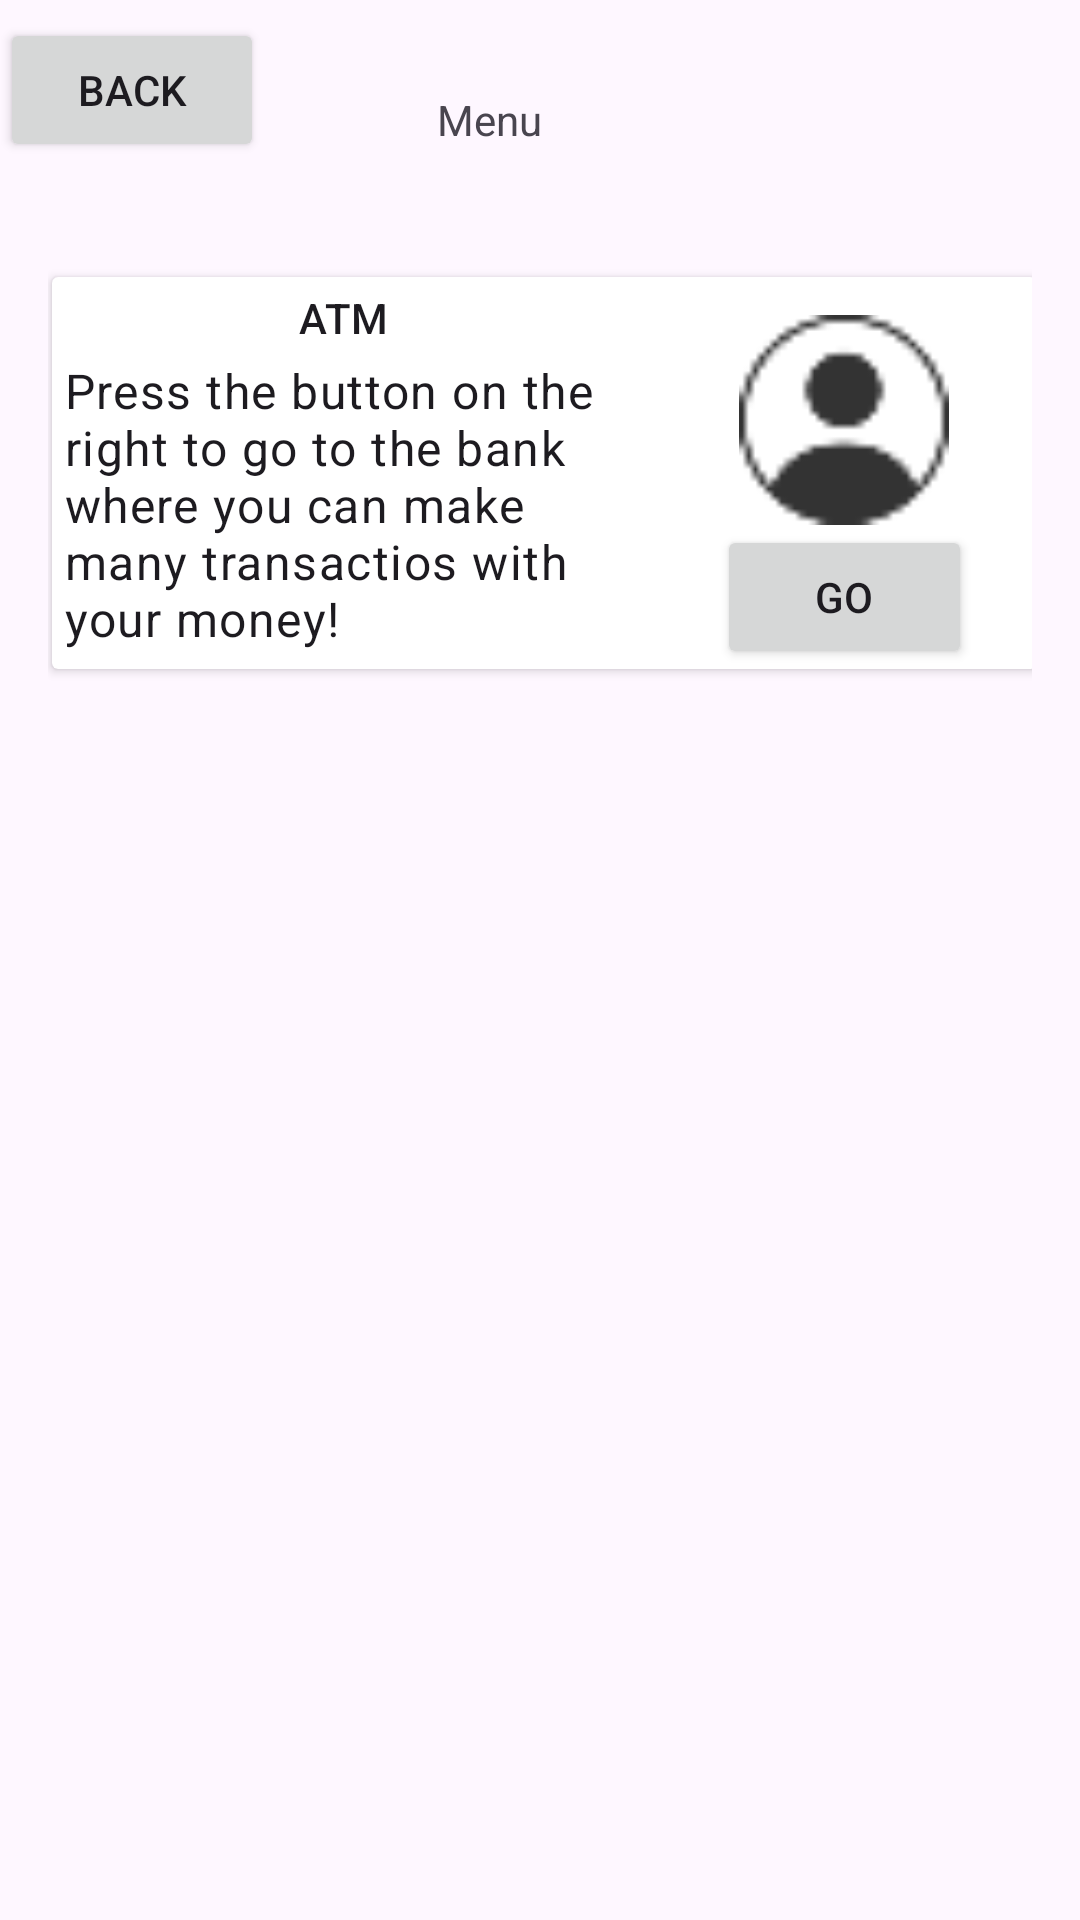

Named icons in this screenshot (1080px x 1920px) and their bounding boxes, region(x1, y1, x2, y2):
user: region(739, 315, 949, 525)
